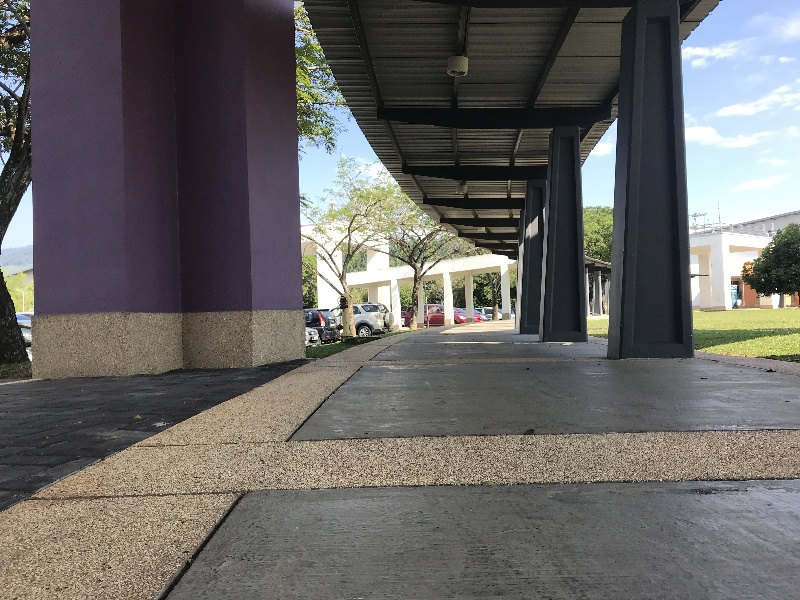Block D corridor: (10, 6, 788, 590)
pillar: (9, 17, 311, 380), (617, 14, 692, 367), (514, 120, 584, 354)
